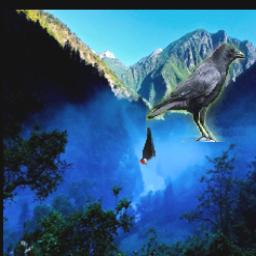Crow: (146, 42, 245, 142)
Woodpecker: (138, 128, 156, 166)
